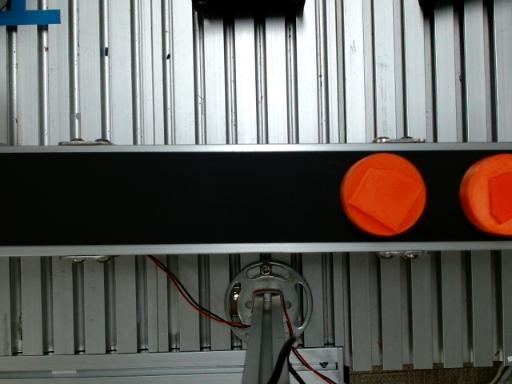Not_Square: (348, 168, 425, 234)
Orange_Waper: (339, 152, 426, 235), (458, 154, 511, 236)
